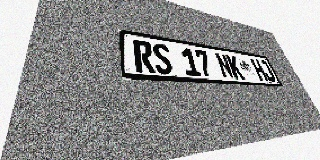1: (179, 47, 201, 76)
7: (194, 49, 215, 77)
H: (250, 58, 269, 81)
J: (258, 60, 277, 82)
K: (225, 54, 245, 80)
N: (214, 53, 235, 79)
R: (133, 39, 156, 73)
S: (151, 42, 174, 75)
